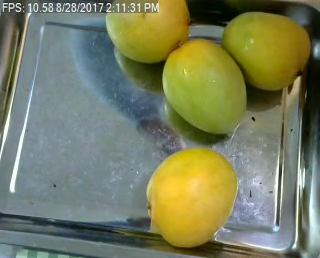Mango: (146, 146, 237, 246), (162, 37, 246, 133), (221, 10, 311, 88), (105, 0, 191, 63)
